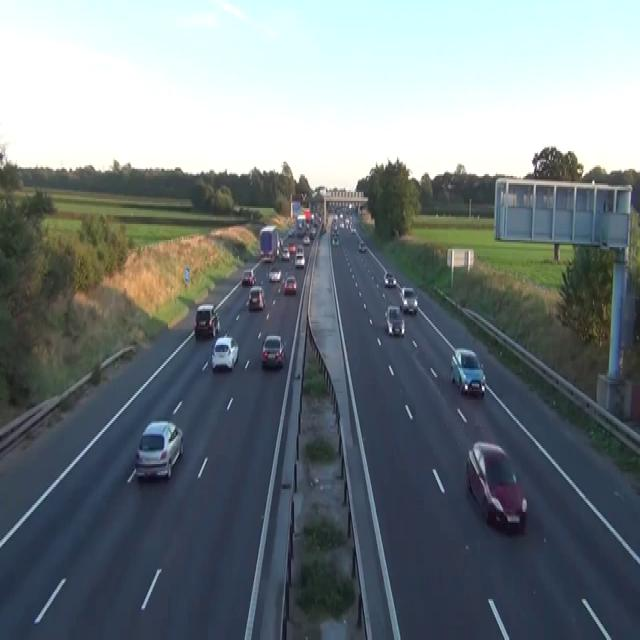Car: (466, 441, 527, 531), (134, 420, 184, 480), (450, 346, 485, 396), (211, 334, 238, 372), (194, 304, 220, 338), (261, 334, 284, 368), (384, 304, 405, 336), (398, 286, 418, 313), (248, 284, 265, 310), (283, 274, 297, 293), (241, 268, 255, 286), (211, 313, 220, 336), (383, 272, 396, 286), (268, 267, 281, 281), (294, 250, 305, 266), (358, 238, 367, 252), (281, 246, 289, 260), (331, 233, 339, 245), (308, 226, 316, 238), (266, 251, 274, 261), (331, 224, 338, 235), (302, 234, 310, 243), (446, 182, 455, 190), (289, 242, 296, 252), (296, 246, 304, 254), (321, 222, 326, 233), (350, 224, 356, 233), (344, 217, 349, 227), (288, 228, 294, 236), (259, 249, 264, 258), (276, 245, 280, 256)
Truck: (259, 224, 278, 261), (296, 214, 306, 236)
